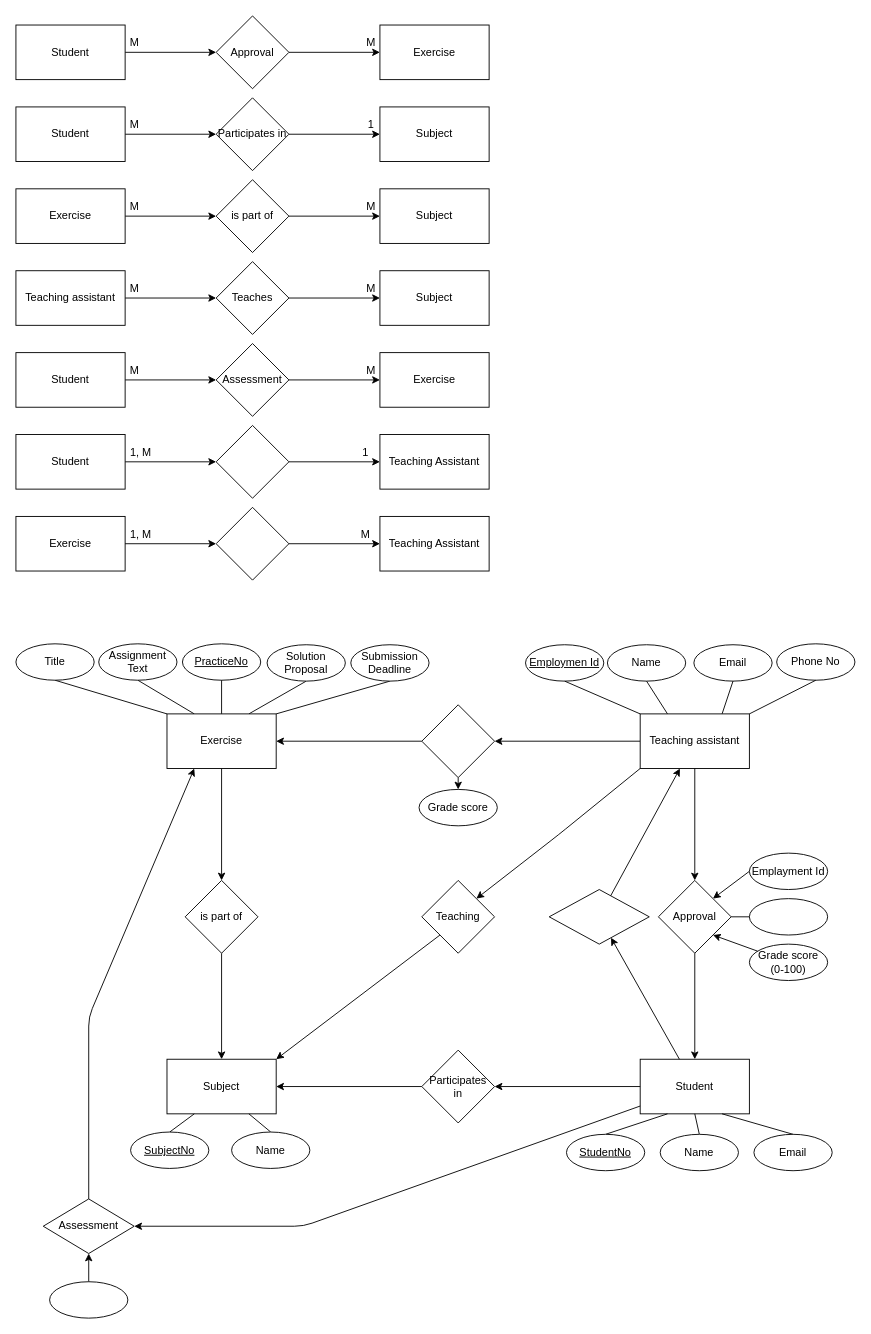
This 871x1334 diagram has some shape labels left out. The shapes that lost their labels are listed below. From the top down, each one's centre as x and y in pixels, then its label:
point 252,461: Primary TA
point 252,543: Graded by
point 458,741: Grading
point 598,916: Has primary assistant
point 788,916: Date
point 88,1299: Effort score (1-6)
